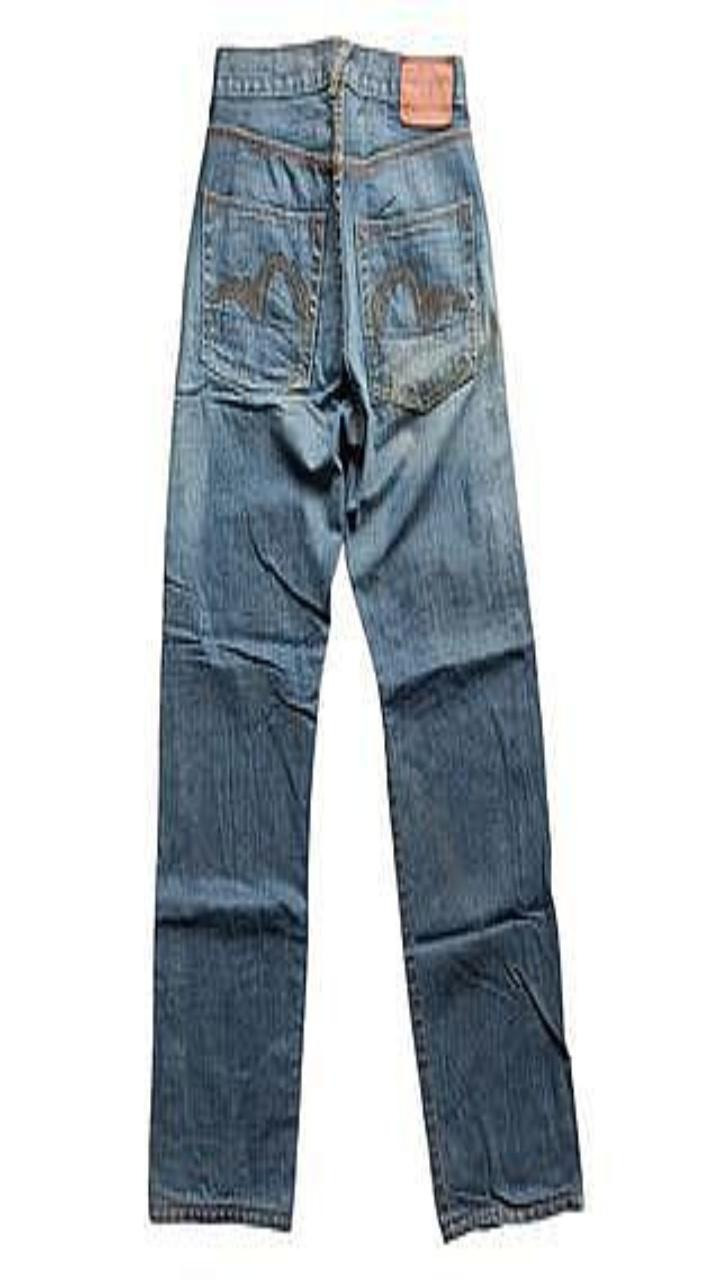Jeans: (150, 38, 582, 1239)
